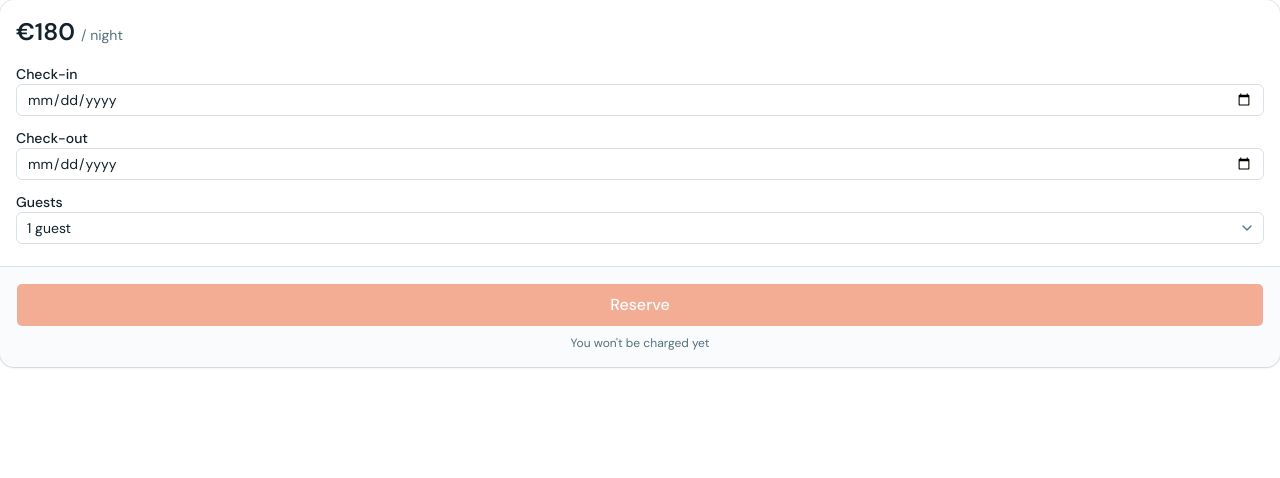
Test case: StayAvailabilityPanel › shows a retry action when the availability check fails
Type "2026-07-10" into the date field labelled "Check-in" at (640, 100), box [16,84,1264,116]
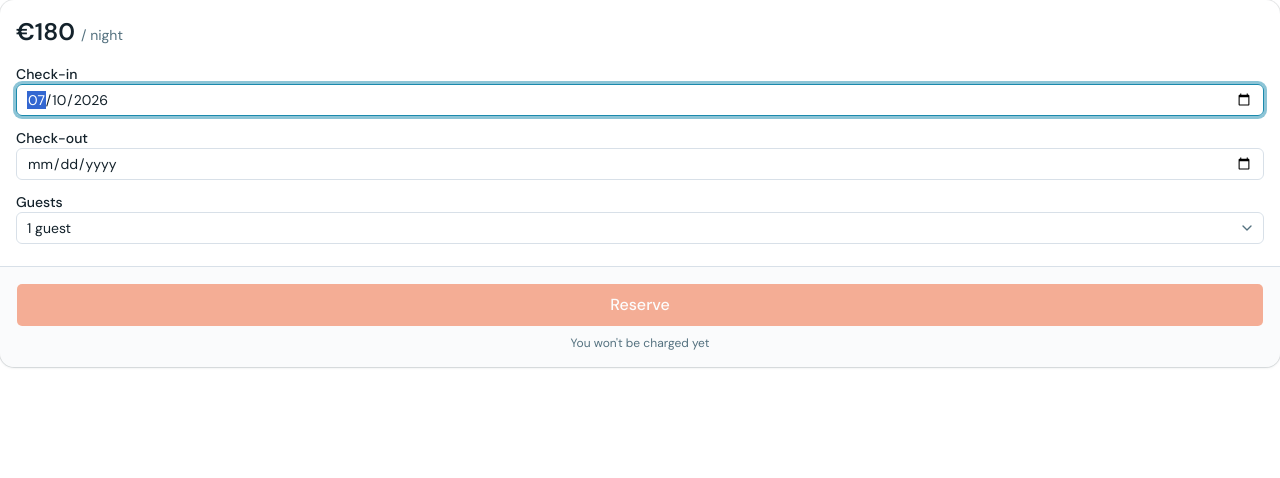
Type "2026-07-12" into the date field labelled "Check-out" at (640, 164), box [16,148,1264,180]
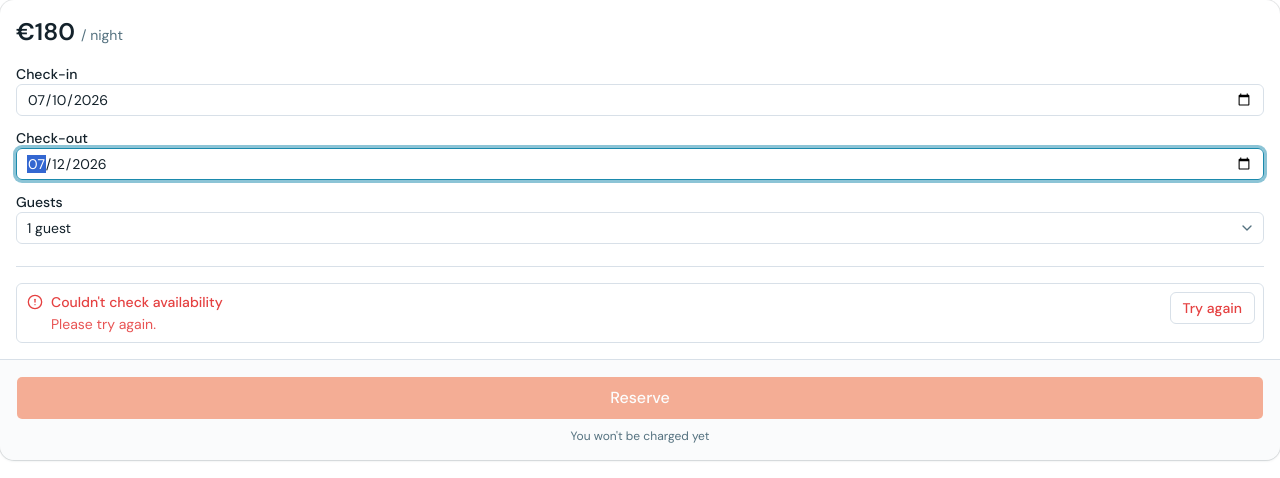
Check: the button "Reserve" is disabled, box [16,376,1264,420]
Check: the text "Couldn't check availability" is shown, box [51,293,223,311]
